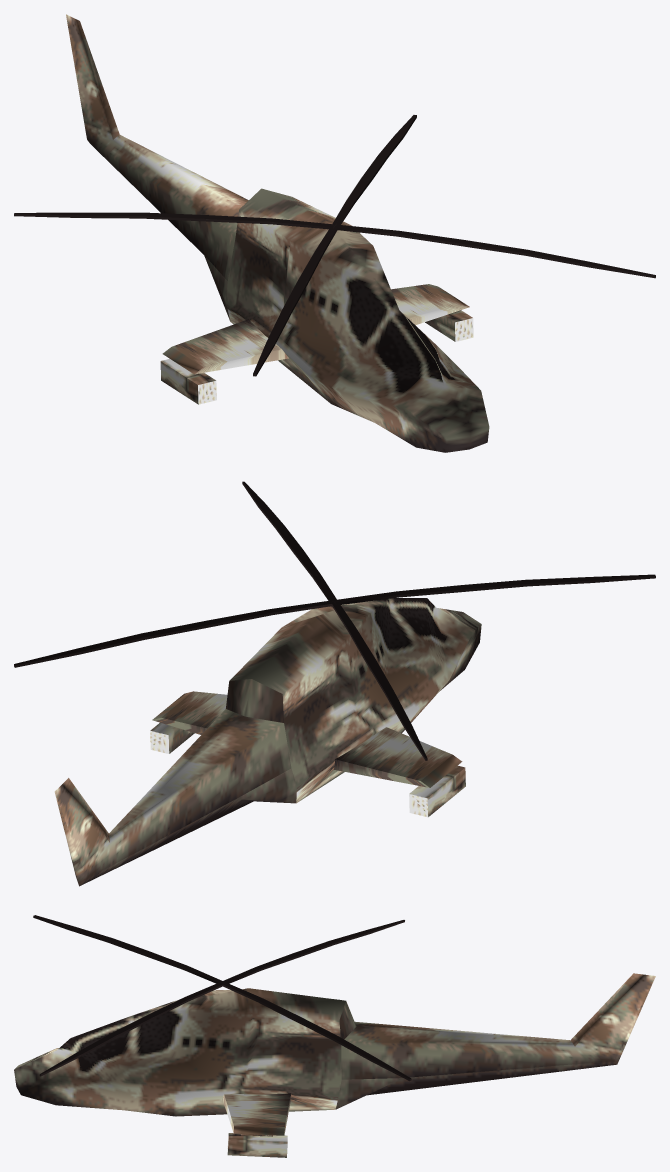
The model's file is icon.ico.obj.
3 renders of one model, top to bottom at view 1: azimuth 30°, elevation 25°; view 2: azimuth 150°, elevation 25°; view 3: azimuth 270°, elevation 25°, orthographic. The views are drawn at different scales.
Bounding box in the file's own units: 2.05 × 0.8086 × 3.49.
1 material, 1 textured.
